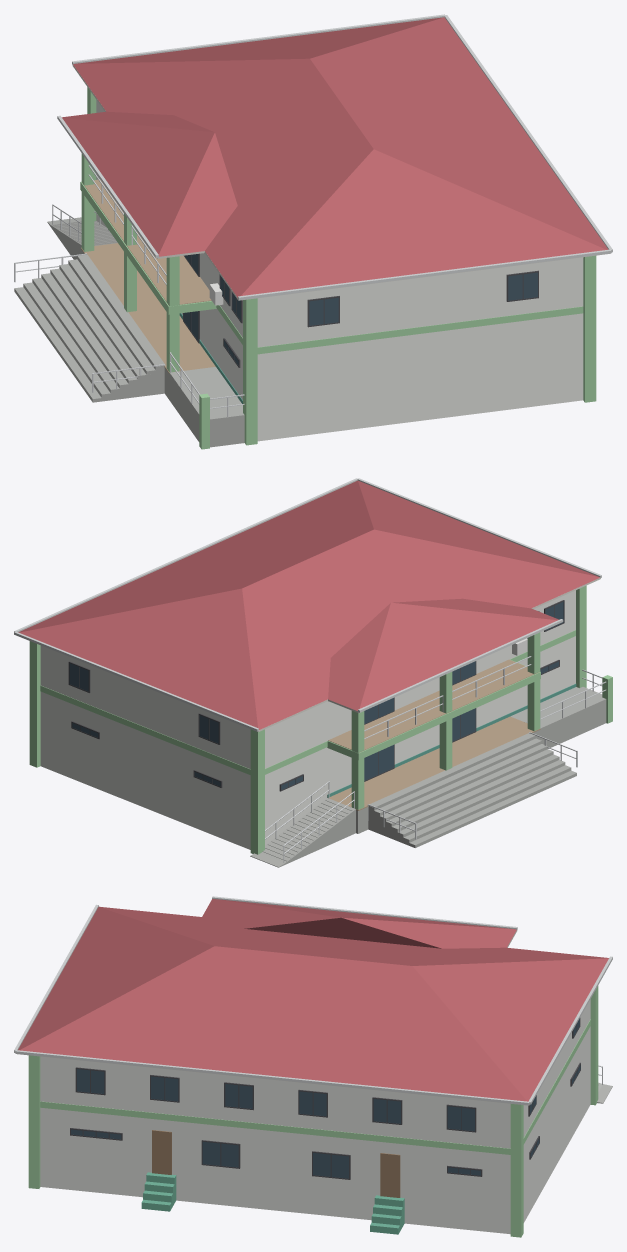
The model's file is rares_multipurpose_rnd.glb.
3 renders of one model, top to bottom at view 1: azimuth 30°, elevation 25°; view 2: azimuth 150°, elevation 25°; view 3: azimuth 270°, elevation 25°, orthographic. The views are drawn at different scales.
Visible parts, largest first — view 1: rares_multipurpose_rnd; view 2: rares_multipurpose_rnd; view 3: rares_multipurpose_rnd.
Part boxes in pixels (x1,y1,x2,y2): rares_multipurpose_rnd: [14, 14, 612, 449]; rares_multipurpose_rnd: [14, 478, 612, 867]; rares_multipurpose_rnd: [14, 896, 612, 1237].
Bounding box in the file's own units: 23.64 × 9.25 × 26.65.
